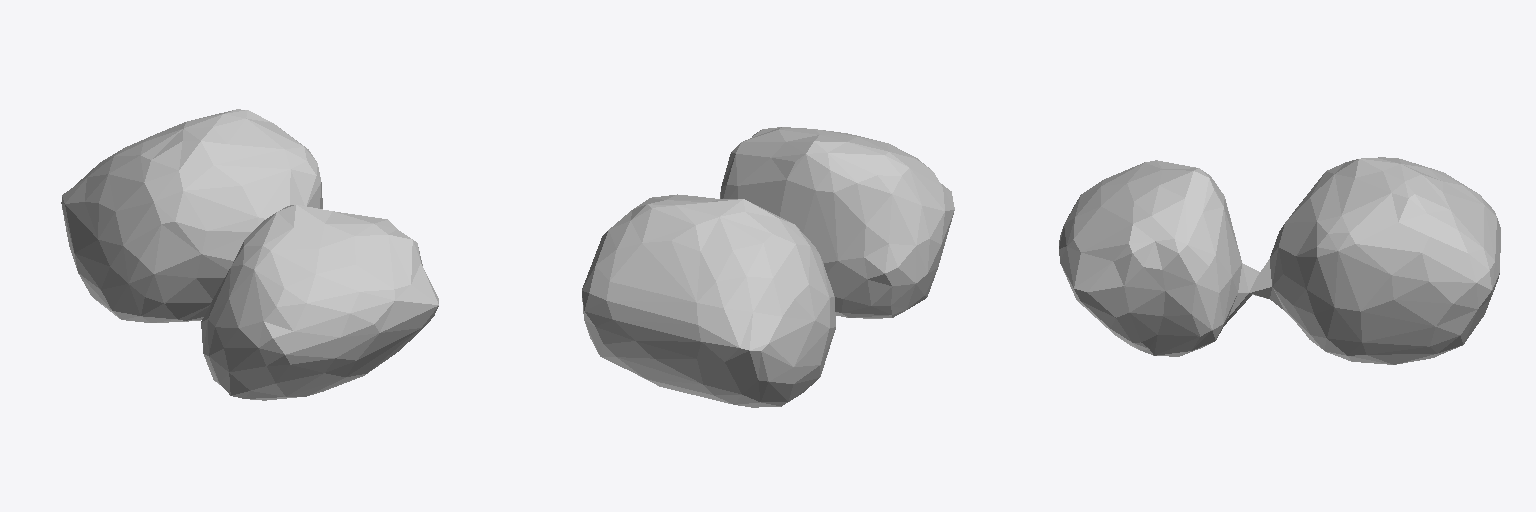
File: MammillaryBodies.obj
The picture shows the model from 3 angles: view 1: azimuth 30°, elevation 25°; view 2: azimuth 150°, elevation 25°; view 3: azimuth 270°, elevation 25°; orthographic projection.
Parts seen in each view (by area): view 1: Mamillary-bodies_mamillary-bodies; view 2: Mamillary-bodies_mamillary-bodies; view 3: Mamillary-bodies_mamillary-bodies.
Boxes of the visible parts, x1,y1,x2,y2 form: Mamillary-bodies_mamillary-bodies: [61, 109, 438, 400]; Mamillary-bodies_mamillary-bodies: [582, 127, 954, 407]; Mamillary-bodies_mamillary-bodies: [1059, 157, 1500, 364].
Bounding box in the file's own units: 7.7 × 6.36 × 14.2.